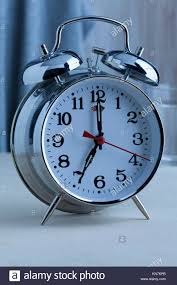alarm_clock: (13, 11, 162, 225), (13, 22, 162, 225)
